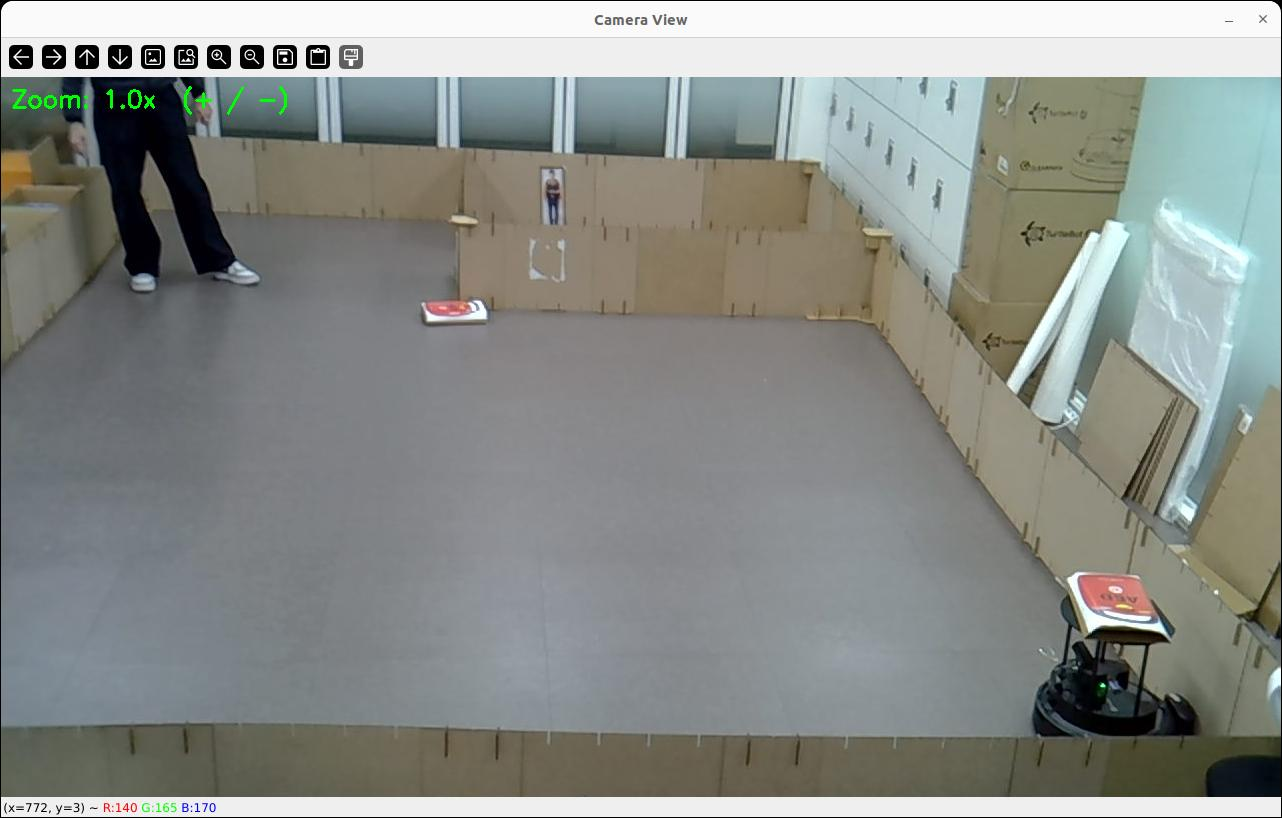AED: (1067, 572, 1172, 643), (422, 299, 487, 325)
Responder: (545, 176, 560, 223)
Robot: (1032, 594, 1197, 736)
